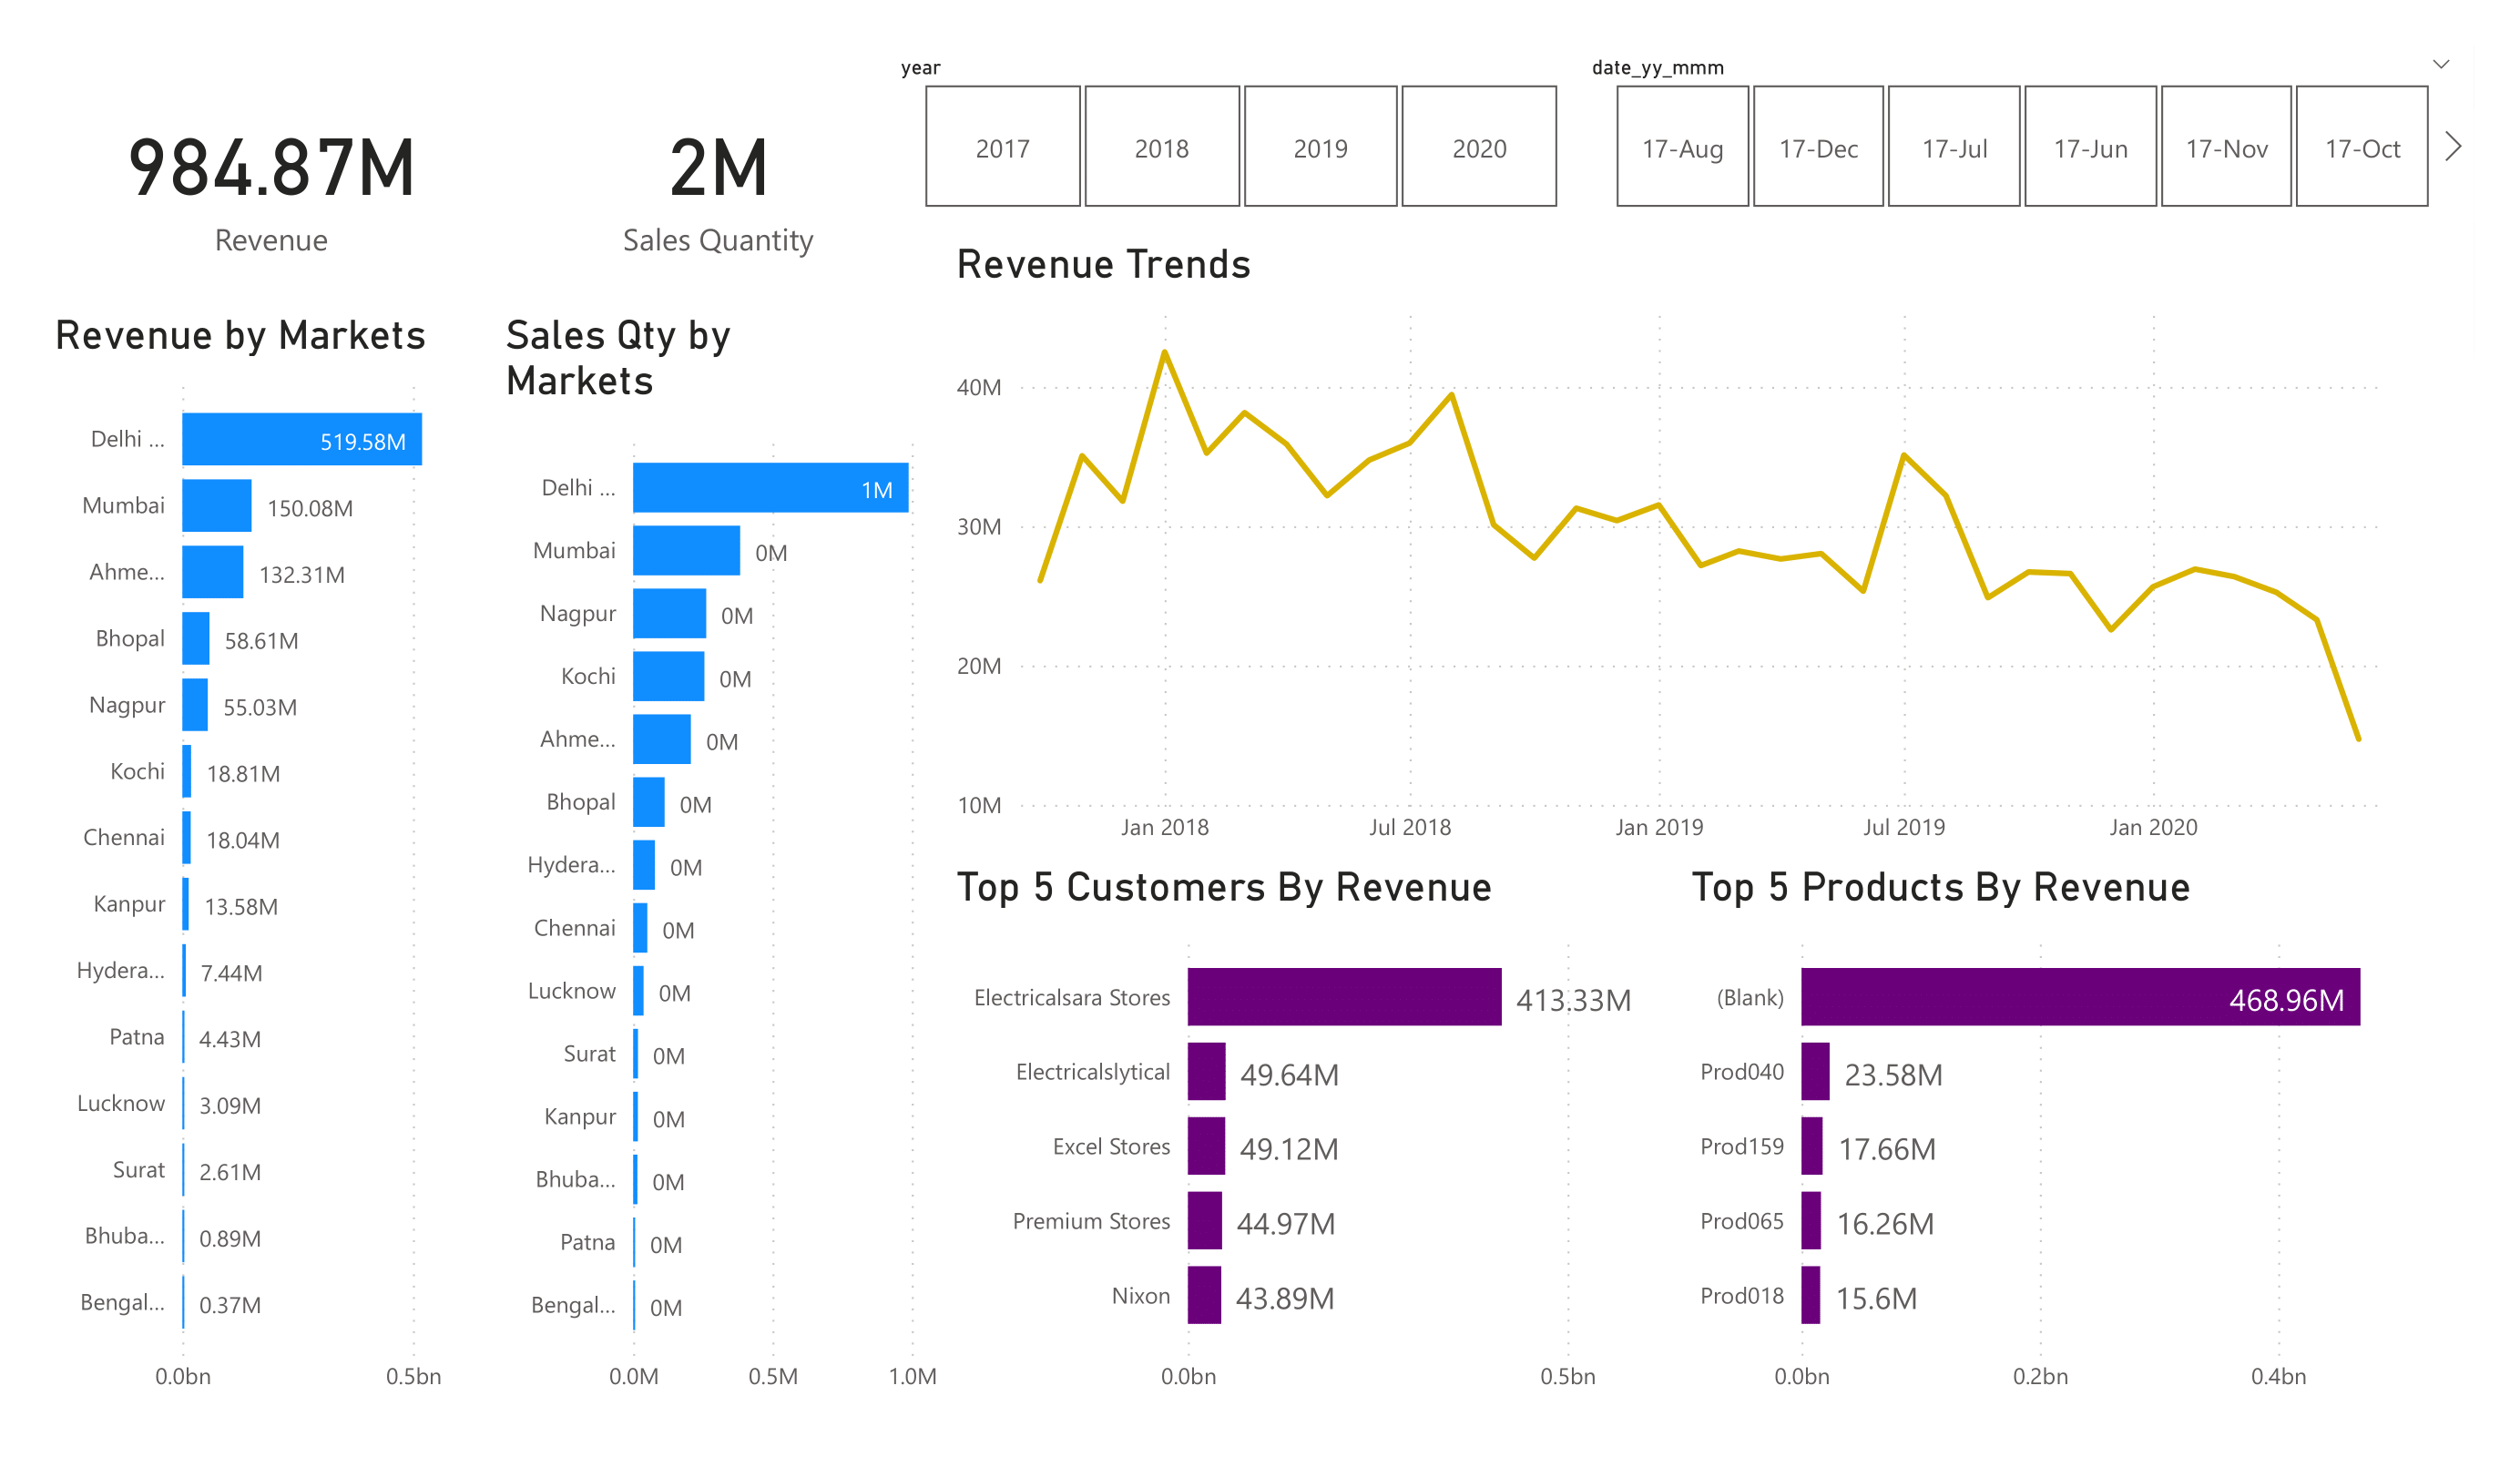

The dashboard page shown, as its layout file describes it:
{"tool":"powerbi","page":{"name":"Page 1","canvas":[1280,720],"ordinal":0},"visuals":[{"type":"card","fields":{"Values":["BaseMeasures.Revenue"]},"box":[0,0,237.6,139.7],"z":0},{"type":"card","fields":{"Values":["BaseMeasures.Sales Quantity"]},"box":[234.7,0,240.5,139.7],"z":1000},{"type":"barChart","title":"Revenue by Markets","fields":{"Y":["BaseMeasures.Revenue"],"Category":["sales markets.markets_name"]},"box":[0,139.7,237.6,580.3],"z":2000},{"type":"barChart","title":"Sales Qty by Markets","fields":{"Y":["BaseMeasures.Sales Quantity"],"Category":["sales markets.markets_name"]},"box":[237.6,139.7,237.6,580.3],"z":3000},{"type":"slicer","fields":{"Values":["sales date.year"]},"box":[437.8,0,383,92.2],"z":4000},{"type":"slicer","fields":{"Values":["sales date.date_yy_mmm"]},"box":[802.1,0,478.1,92.2],"z":5000},{"type":"barChart","title":"Top 5 Customers By Revenue","fields":{"Category":["sales customers.custmer_name"],"Y":["BaseMeasures.Revenue"]},"box":[475.2,430.6,387.4,289.4],"z":6000},{"type":"barChart","title":"Top 5 Products By Revenue","fields":{"Category":["sales products.product_code"],"Y":["BaseMeasures.Revenue"]},"box":[862.6,430.6,397.4,289.4],"z":7000},{"type":"lineChart","title":"Revenue Trends","fields":{"Y":["BaseMeasures.Revenue"],"Category":["sales date.cy_date"]},"box":[475.2,102.2,773.3,328.3],"z":8000}]}

Visuals, with their boxes in screenshot pixels (x1, y1, x2, y2):
card - BaseMeasures.Revenue: box=[46, 46, 496, 311]
card - BaseMeasures.Sales Quantity: box=[491, 46, 947, 311]
"Revenue by Markets" barChart: box=[46, 311, 496, 1411]
"Sales Qty by Markets" barChart: box=[496, 311, 947, 1411]
slicer - sales date.year: box=[876, 46, 1603, 220]
slicer - sales date.date_yy_mmm: box=[1567, 46, 2474, 220]
"Top 5 Customers By Revenue" barChart: box=[947, 862, 1682, 1411]
"Top 5 Products By Revenue" barChart: box=[1682, 862, 2436, 1411]
"Revenue Trends" lineChart: box=[947, 239, 2414, 862]
